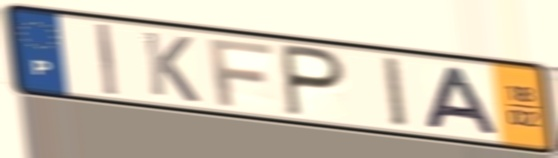A: (424, 63, 503, 138)
F: (204, 36, 276, 110)
I: (379, 53, 412, 131), (93, 21, 120, 99)
K: (139, 28, 203, 106)
P: (279, 40, 350, 121)
